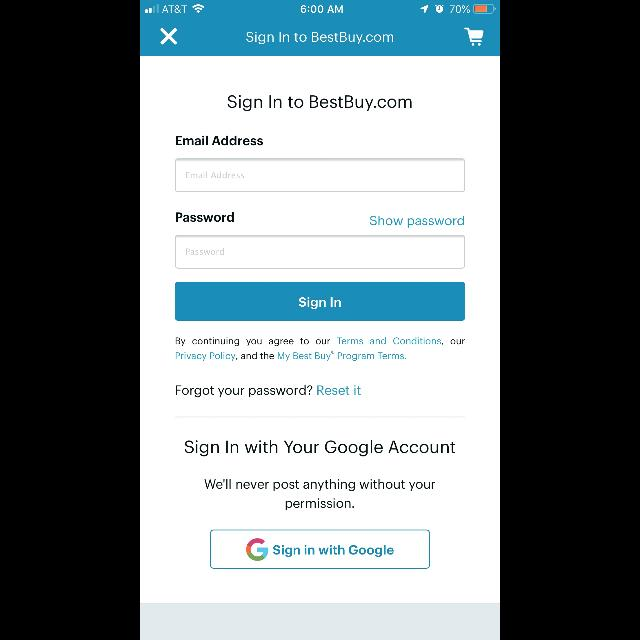icon: (464, 28, 484, 46), (160, 28, 178, 46)
input: (175, 235, 465, 269), (175, 158, 465, 192)
text: (204, 480, 436, 510), (176, 337, 464, 361), (184, 440, 456, 456), (228, 95, 412, 111), (176, 385, 360, 397), (246, 32, 394, 44), (370, 216, 464, 228), (176, 136, 264, 146), (176, 212, 234, 222), (186, 172, 244, 178), (186, 248, 224, 256)
textbutton: (175, 282, 465, 321), (210, 530, 430, 568)
uppertaskbar: (140, 0, 500, 14)
